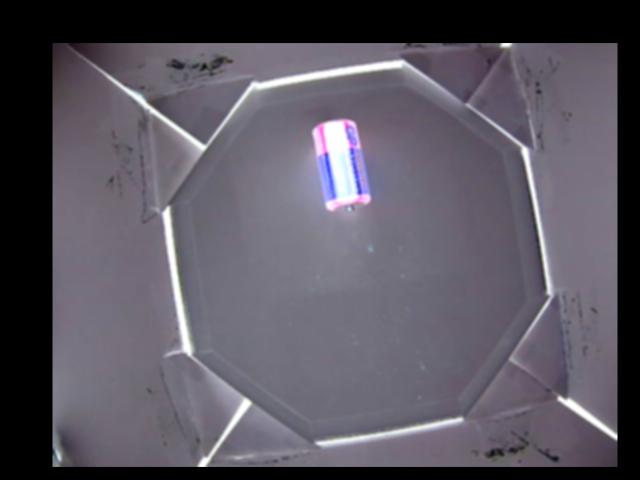Battery: (311, 119, 371, 213)
